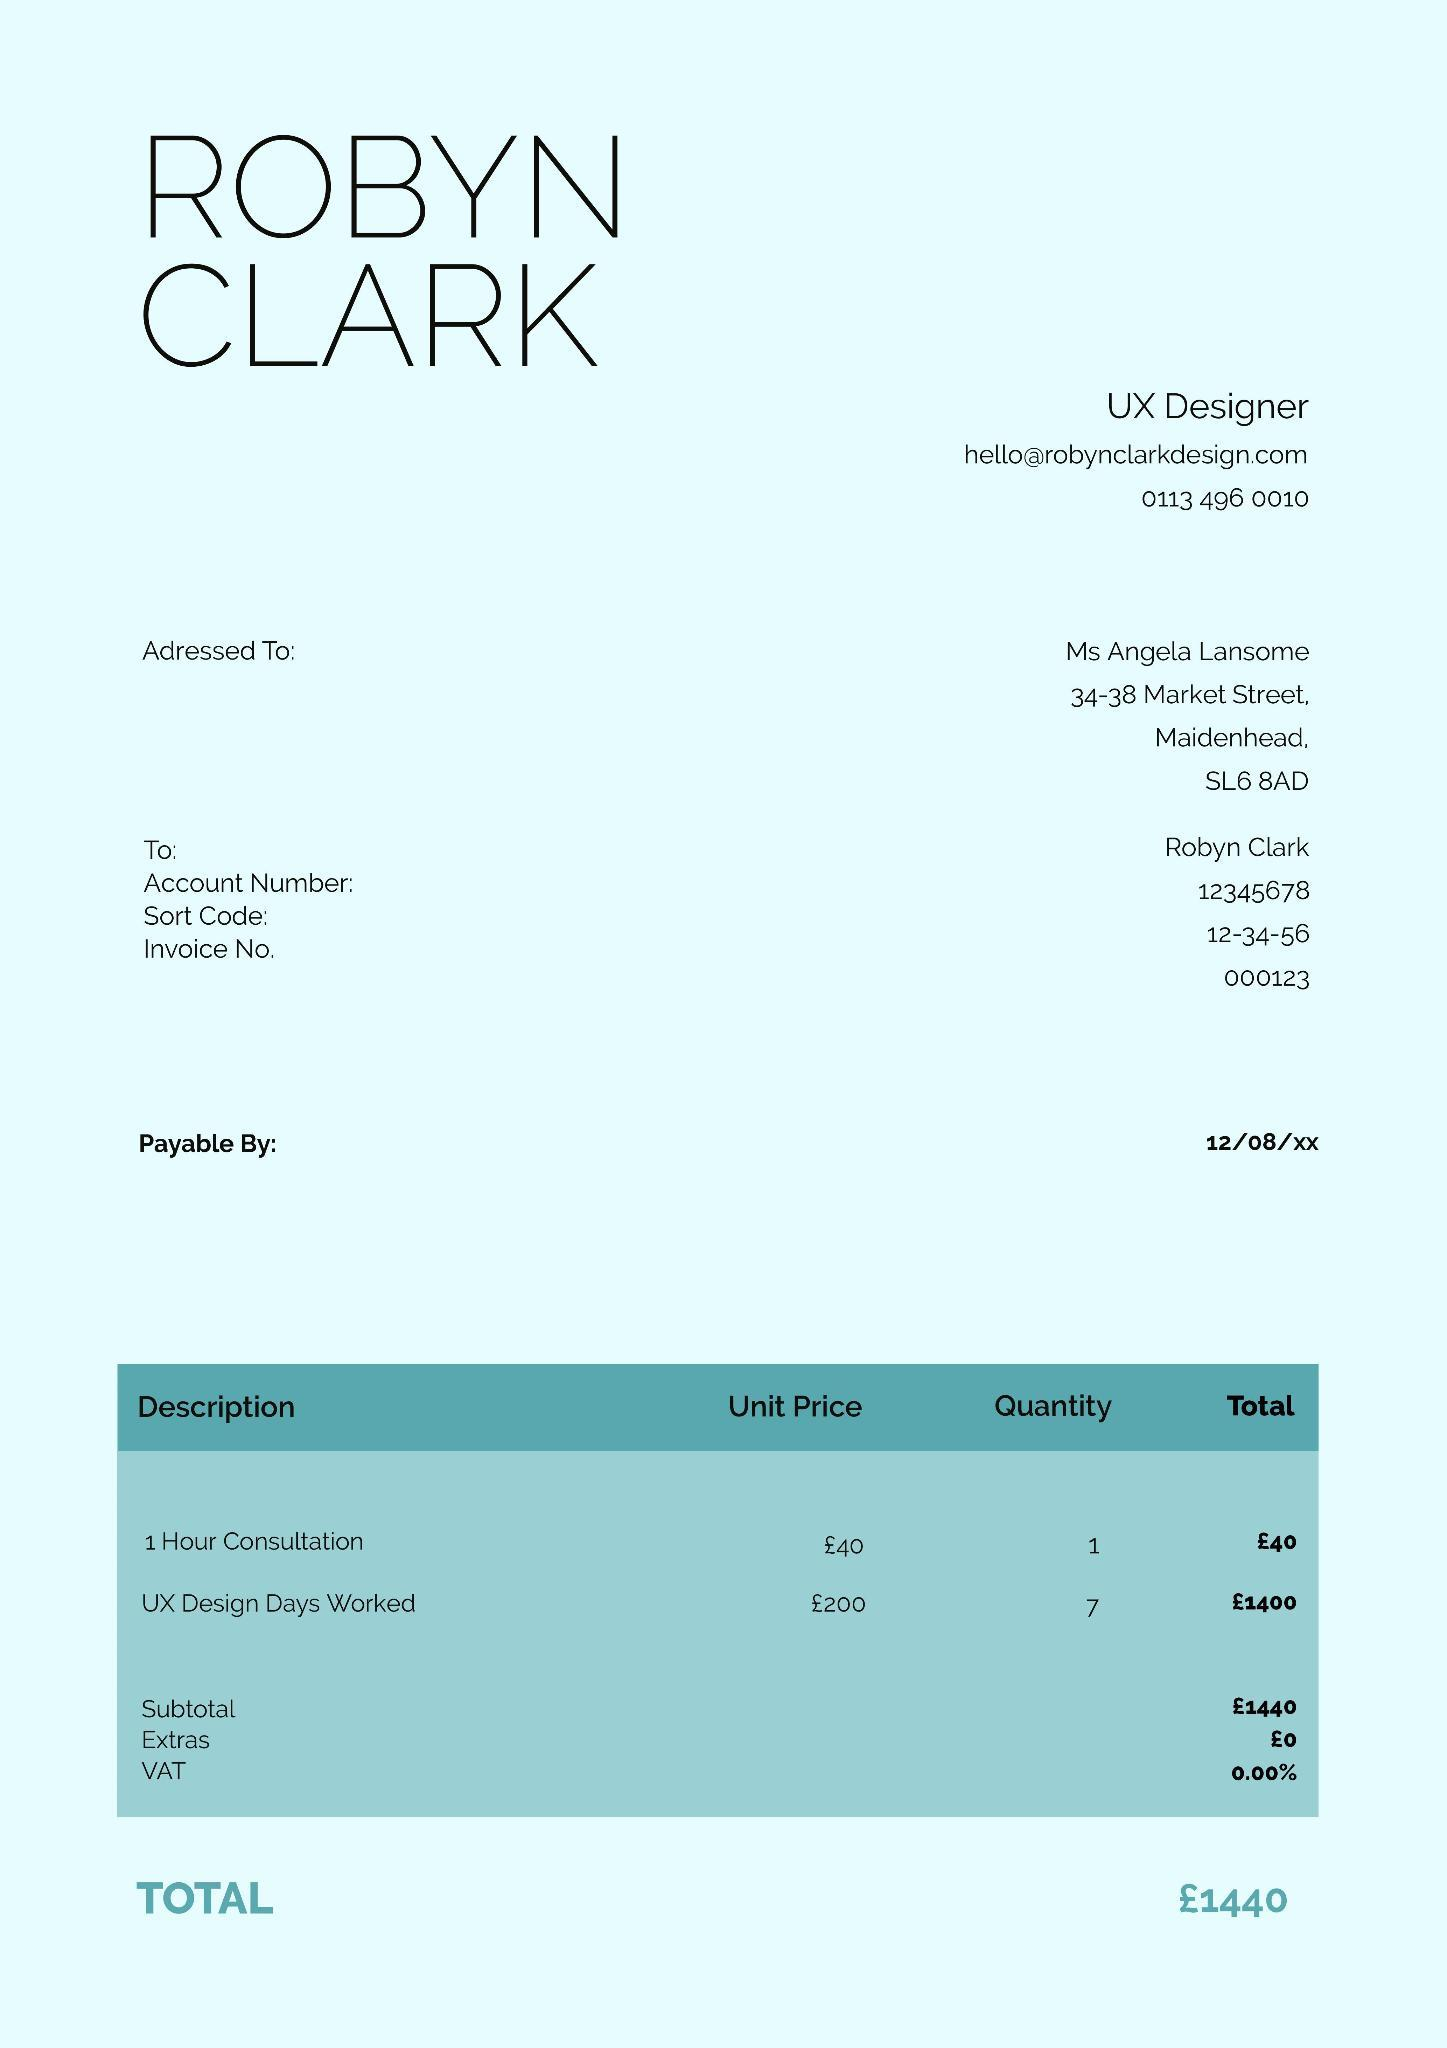ROI: (92, 1343, 1341, 1830), (96, 590, 1358, 803), (89, 825, 1372, 996), (96, 81, 639, 395), (85, 1090, 1341, 1221), (110, 1860, 1339, 1937), (919, 355, 1356, 535)
